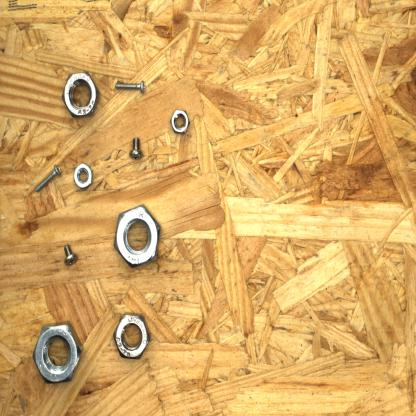screw: (31, 160, 63, 196), (113, 78, 149, 98), (126, 133, 148, 163), (60, 241, 80, 271)
